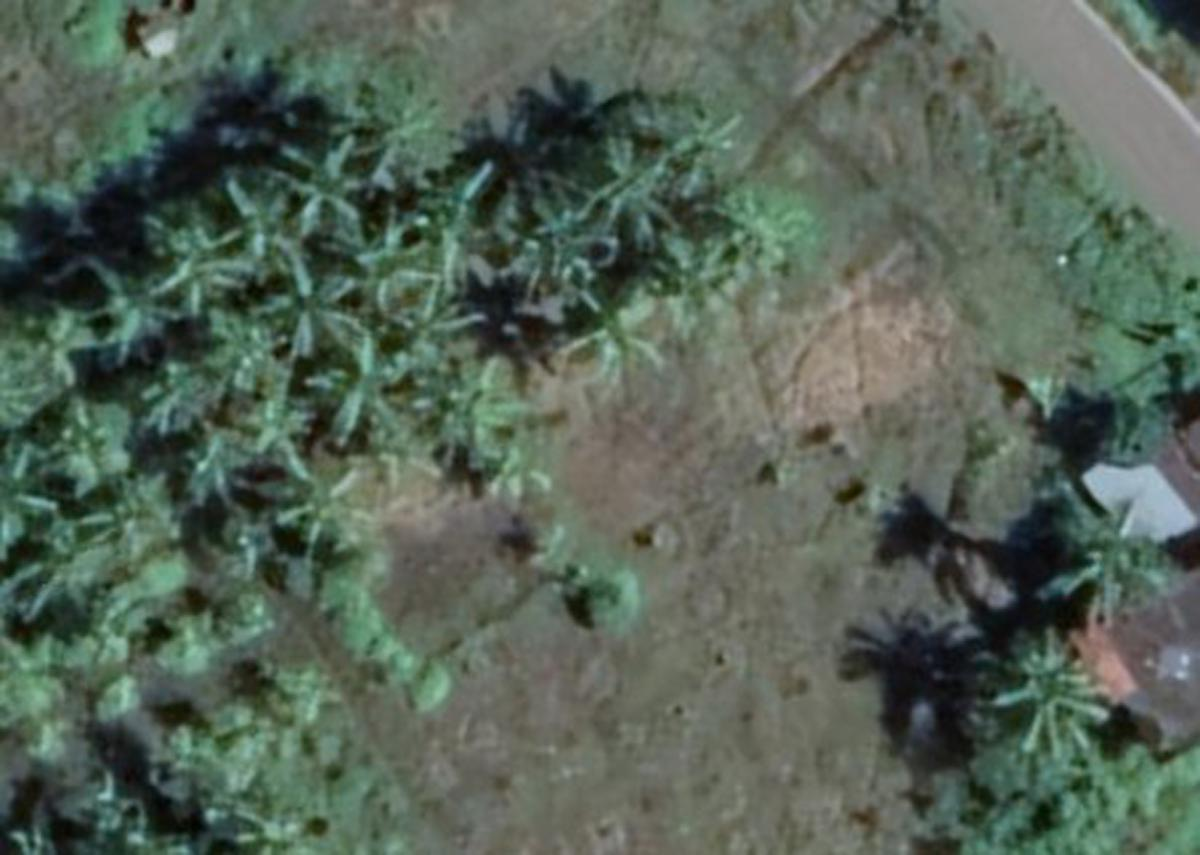coconut: (990, 631, 1130, 762), (1043, 493, 1162, 616), (576, 135, 690, 260), (387, 278, 512, 387), (284, 130, 395, 249), (302, 342, 422, 451), (212, 177, 342, 276), (151, 217, 265, 326), (273, 459, 390, 557), (262, 254, 369, 358), (560, 286, 671, 385), (87, 262, 180, 366), (440, 350, 530, 456), (130, 353, 225, 448), (345, 236, 440, 331)
